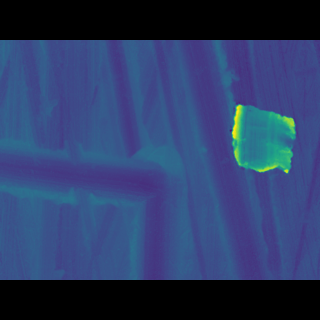Loch: (100, 69, 177, 250), (0, 141, 177, 196), (223, 109, 299, 172)
